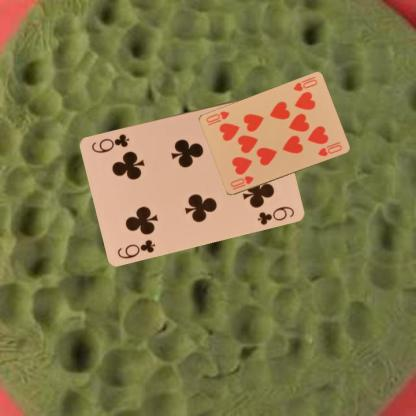10h: (228, 173, 255, 191), (291, 77, 318, 92)
6c: (115, 236, 157, 260)
